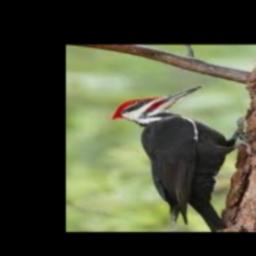Woodpecker: (111, 85, 256, 231)
